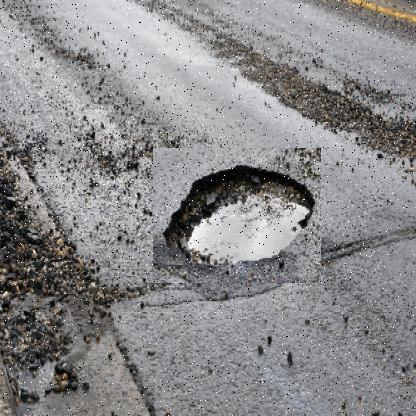pothole_water: (152, 148, 321, 284)
